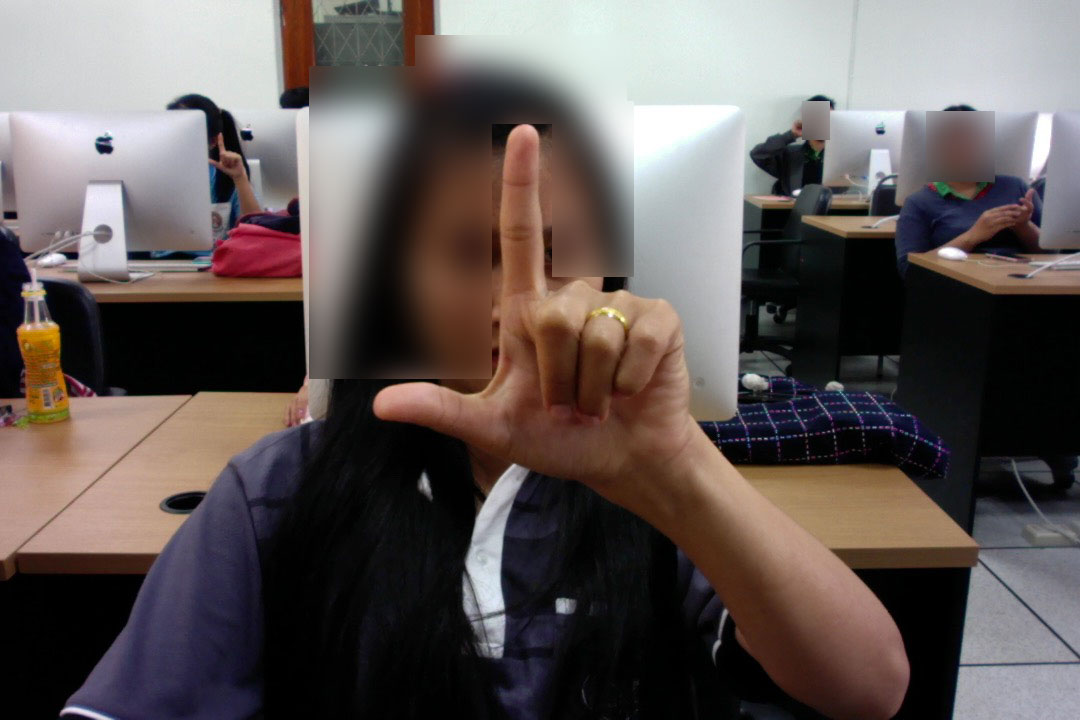lor: (360, 113, 749, 479)
